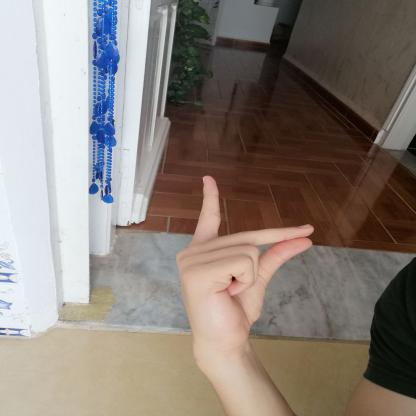TAA: (164, 168, 324, 352)
